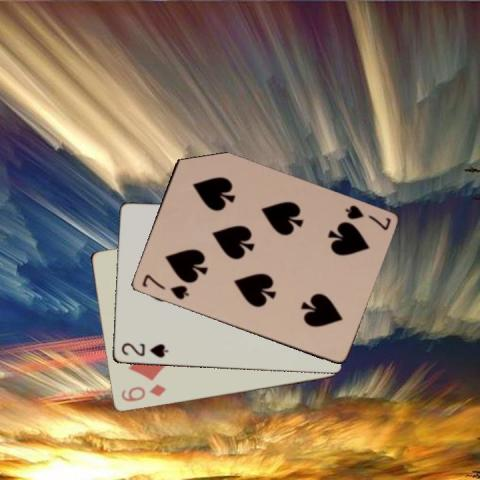2s: (118, 340, 170, 359)
6d: (118, 382, 167, 404)
7s: (139, 272, 190, 302), (342, 202, 392, 232)
